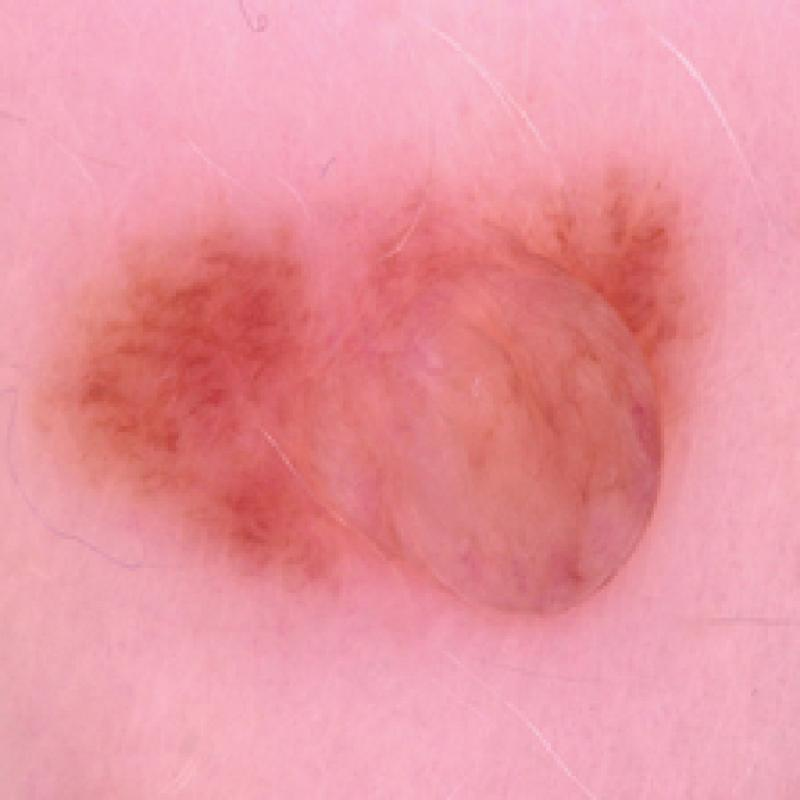benign: (54, 135, 726, 649)
